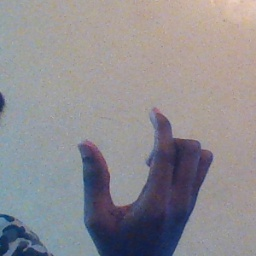U: (70, 100, 217, 252)
